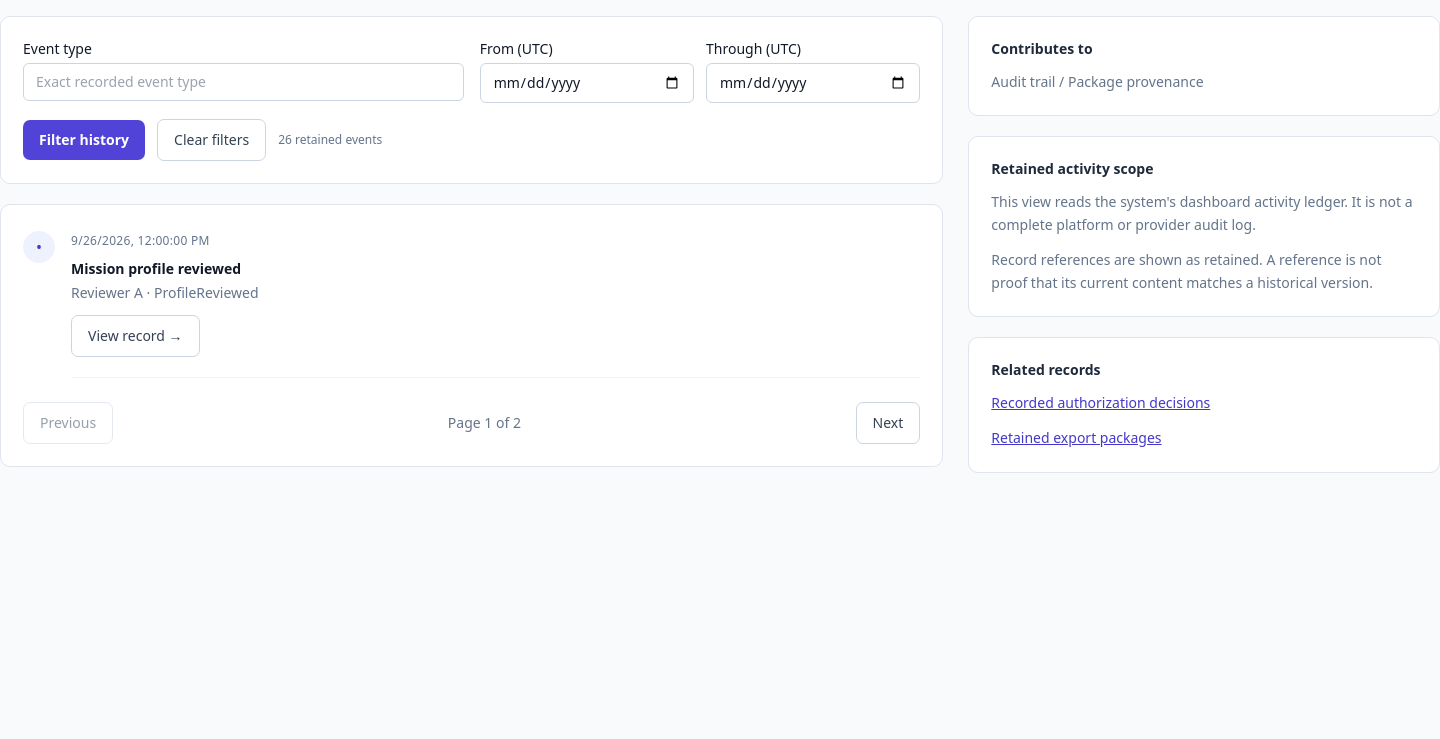
Scenario: System activity history › inspects the actual retained event without claiming a source version or mutating history
Click the button with aria-label "View record: Mission profile reviewed" at x=135, y=336, box 71,314 -> 200,356
(page scrolled)
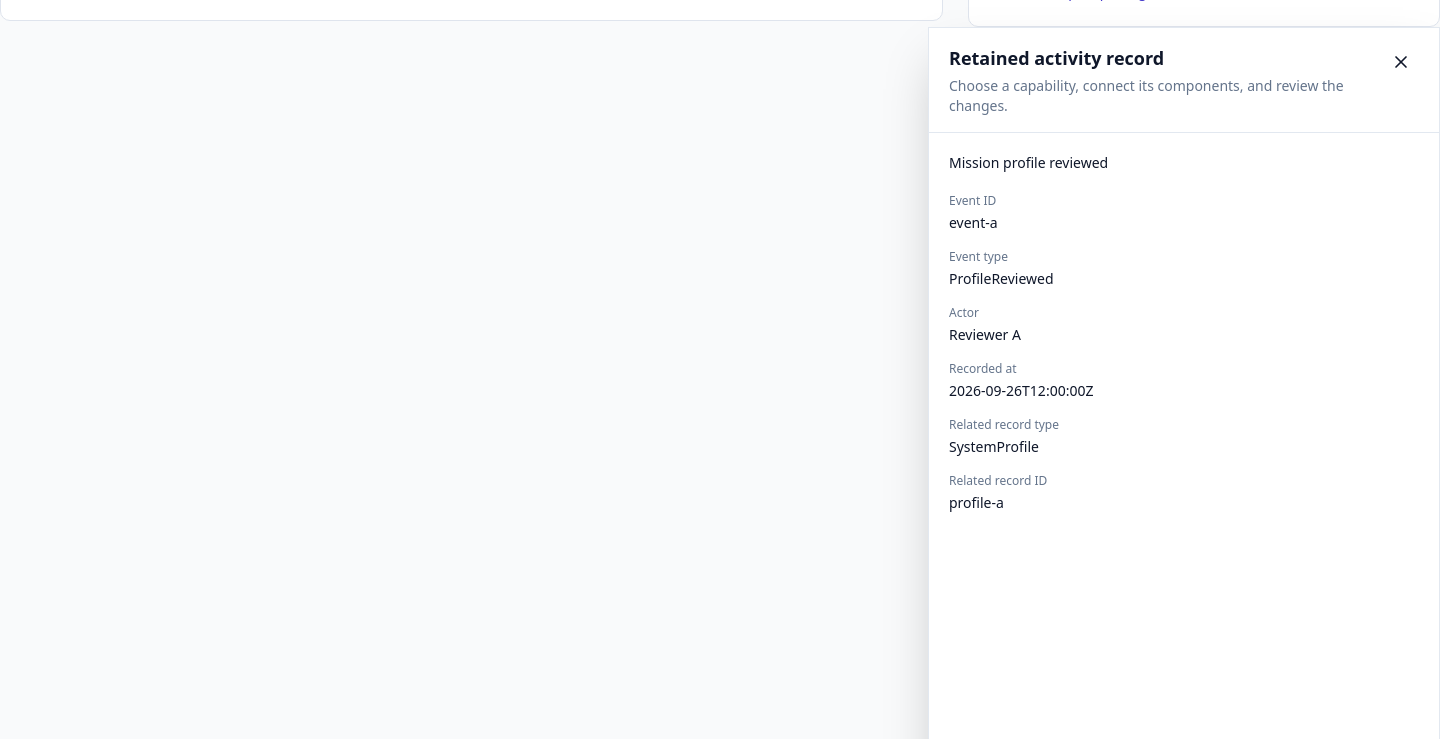
Check: the text "event-a" is shown, box 949,213 -> 998,232
Check: the text "profile-a" is shown, box 949,493 -> 1004,512
Check: the text "Reviewer A" is shown, box 949,325 -> 1021,344
